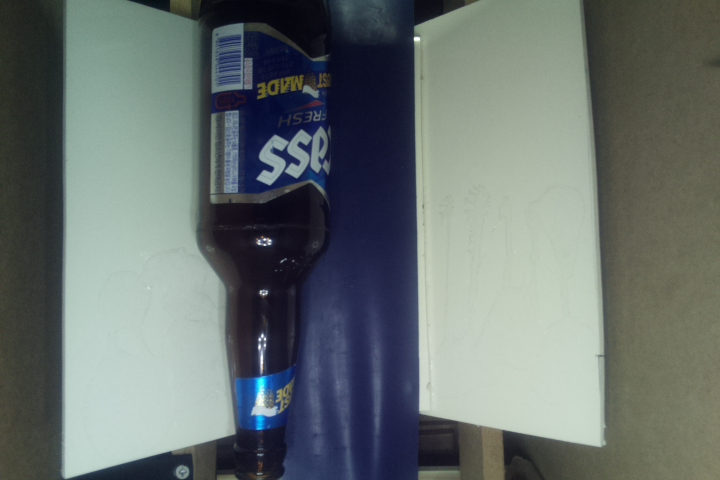makju: (192, 1, 342, 480)
